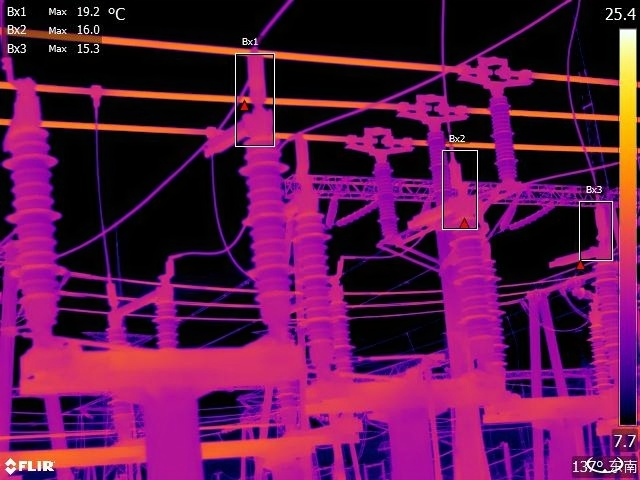circuit breaker: (187, 102, 282, 162), (549, 231, 612, 275)
clamp: (79, 77, 108, 112)
insulator: (337, 196, 379, 228), (509, 202, 557, 228), (498, 191, 522, 228), (327, 188, 341, 229)
post insulator: (10, 125, 71, 328), (240, 145, 297, 324), (454, 225, 509, 372), (295, 213, 340, 350), (490, 99, 525, 182), (106, 325, 134, 428), (598, 255, 619, 385), (428, 128, 455, 206), (372, 161, 399, 235), (332, 303, 358, 376), (588, 318, 612, 390), (153, 305, 180, 348)
switch: (100, 266, 183, 328), (408, 183, 490, 236)
